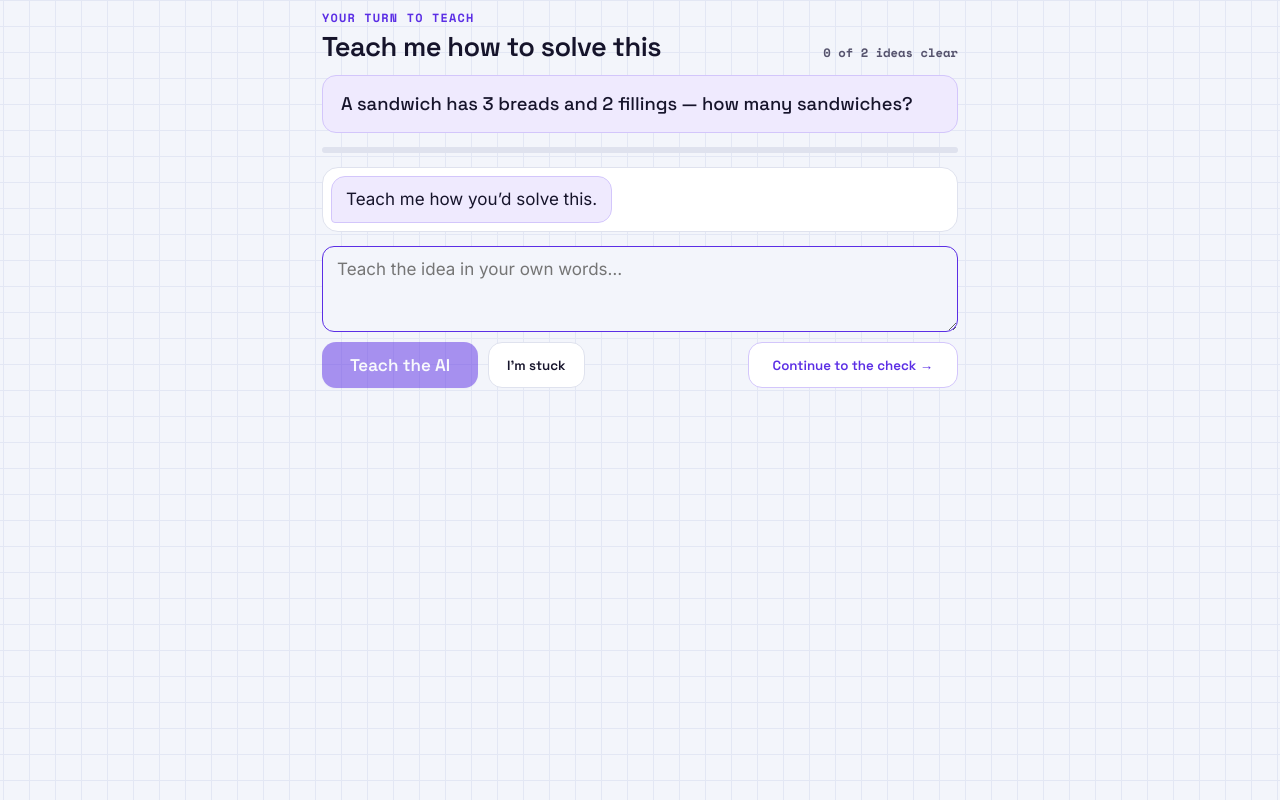
Test: TeachBackStep › still lets the learner continue if the AI is unreachable
Type "attempt" into the text box with placeholder "Teach the idea in your own words…" at point(640, 290), box [322,246,958,332]
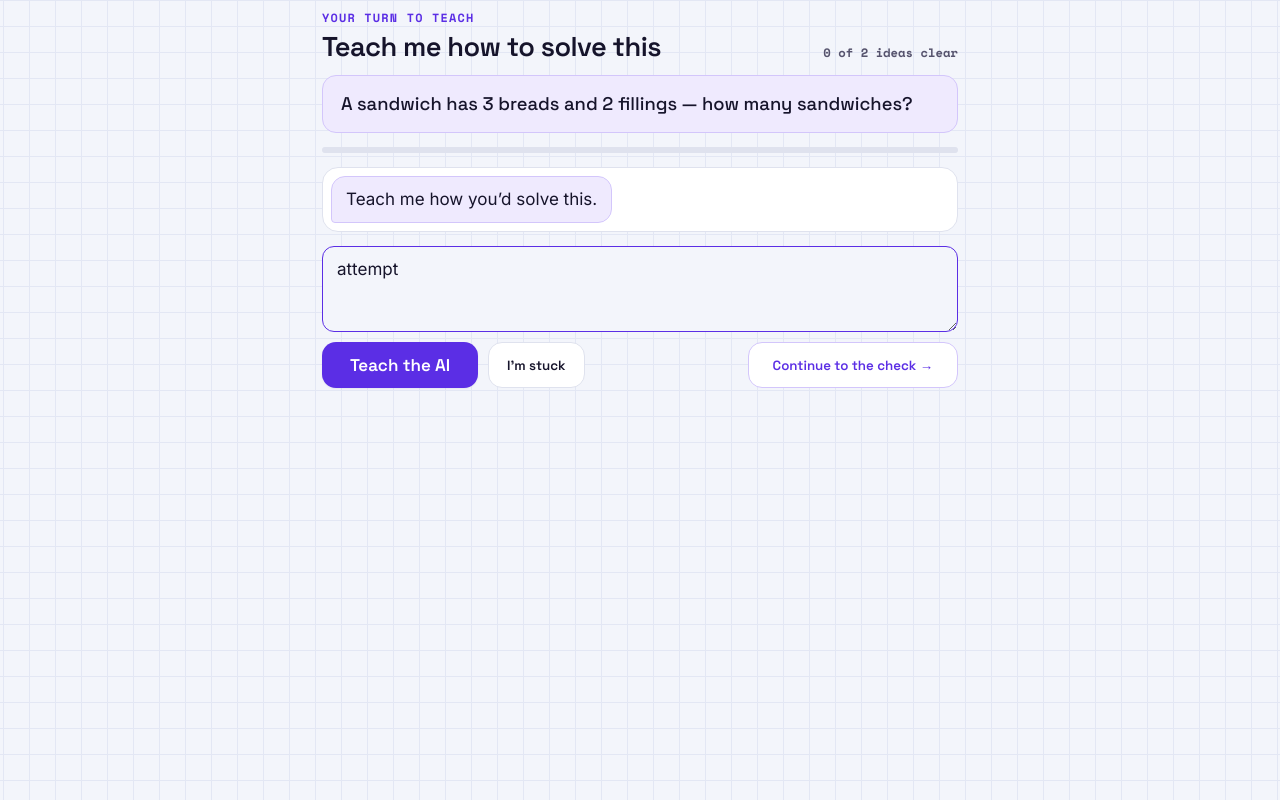
Click the button "Teach the AI" at point(400, 366), box [322,342,478,388]
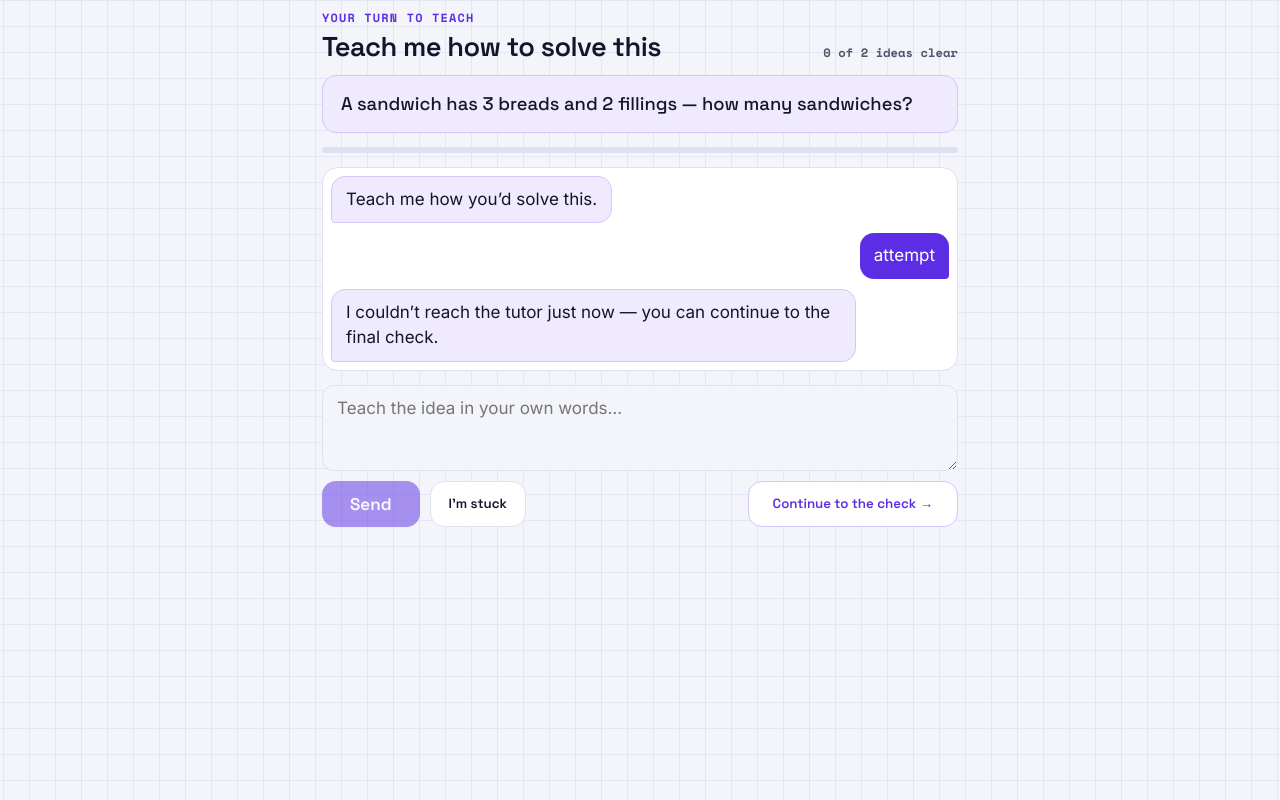
Check: the button "Continue to the check →" is shown, box [748,481,958,527]
Check: the text "couldn.t reach the tutor" is shown, box [346,302,835,348]
